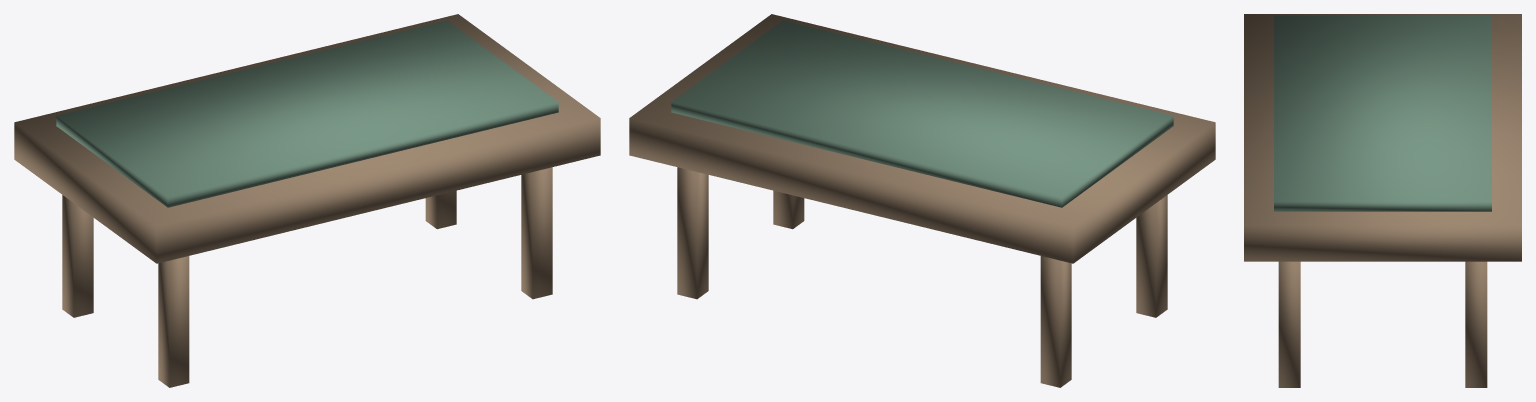
Rendered from pool_table.glb.
3 views of the same model, side by side, from view 1: azimuth 30°, elevation 25°; view 2: azimuth 150°, elevation 25°; view 3: azimuth 270°, elevation 25° (orthographic). The views are drawn at different scales.
Visible parts, largest first — view 1: world; view 2: world; view 3: world.
Boxes of the visible parts, left/top/right/bottom form: world: left=14, top=14, right=600, bottom=387; world: left=629, top=14, right=1215, bottom=387; world: left=1244, top=14, right=1521, bottom=387.
Size of the model in its own units: 2.25 by 0.935 by 1.25.
